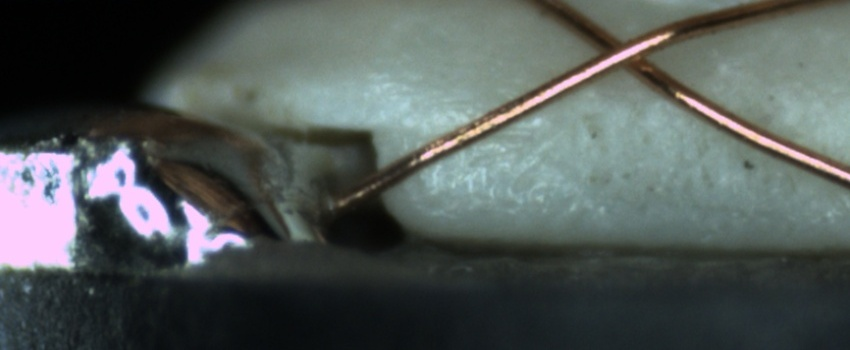CL: (572, 15, 675, 84)
DL: (416, 106, 543, 159)
